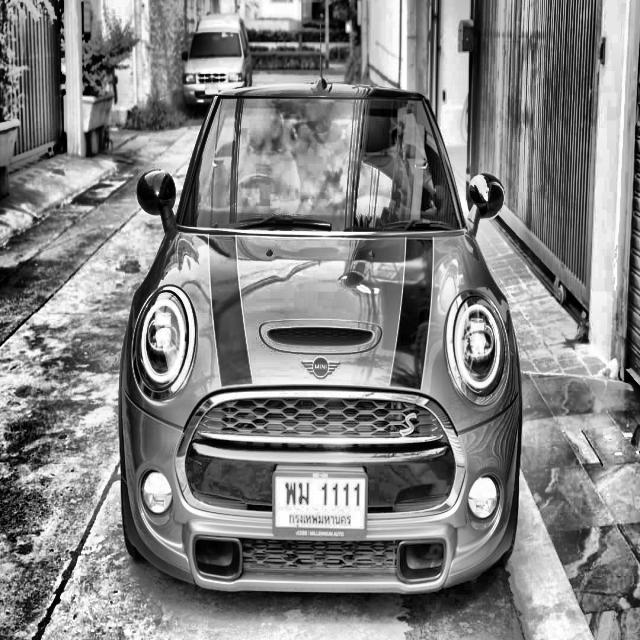license-plate: (268, 459, 372, 549)
